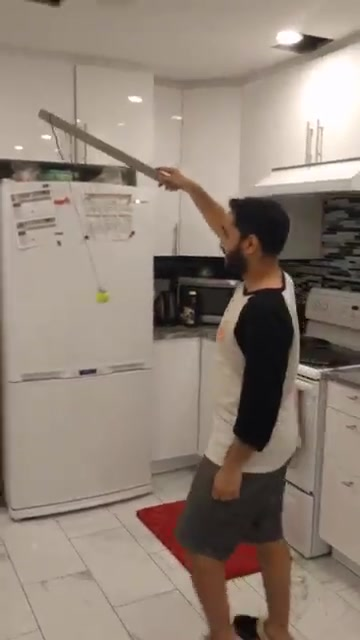tennis_ball: (93, 288, 111, 304)
